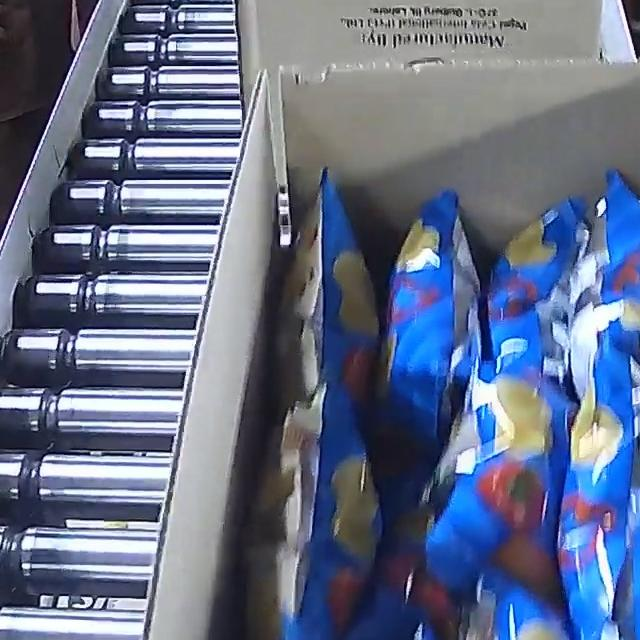paprika: (256, 161, 640, 640)
